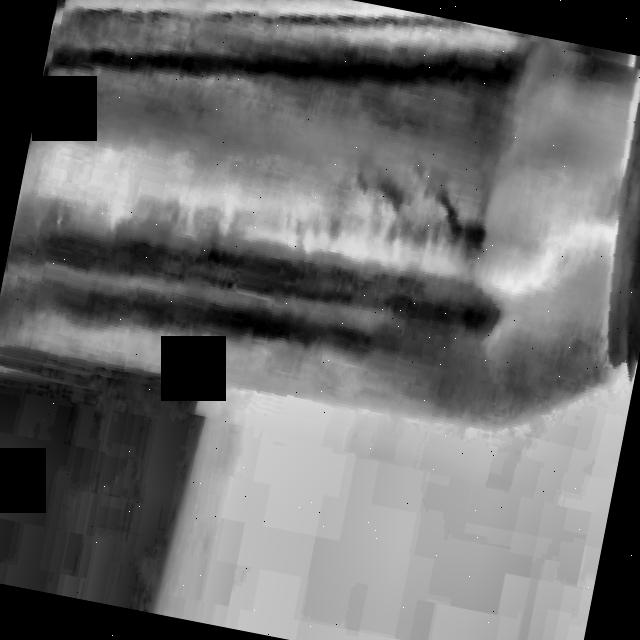bottle: (0, 0, 640, 427)
